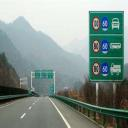speed_limit_100: (91, 16, 100, 32)
speed_limit_80: (91, 60, 101, 80), (92, 38, 100, 54)
